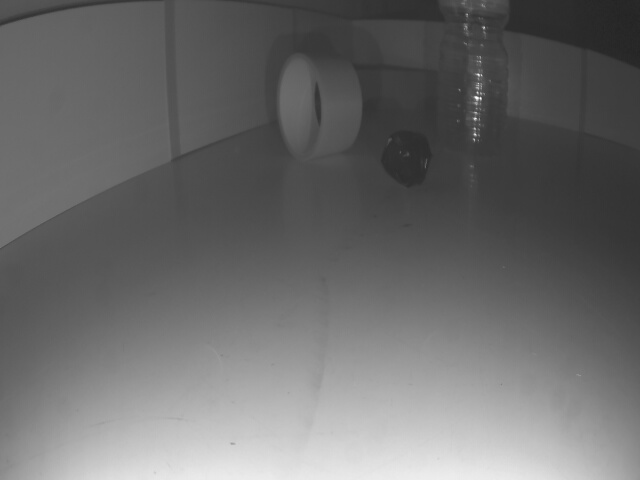Dead: (381, 125, 436, 187)
Point: (358, 72, 442, 113)
